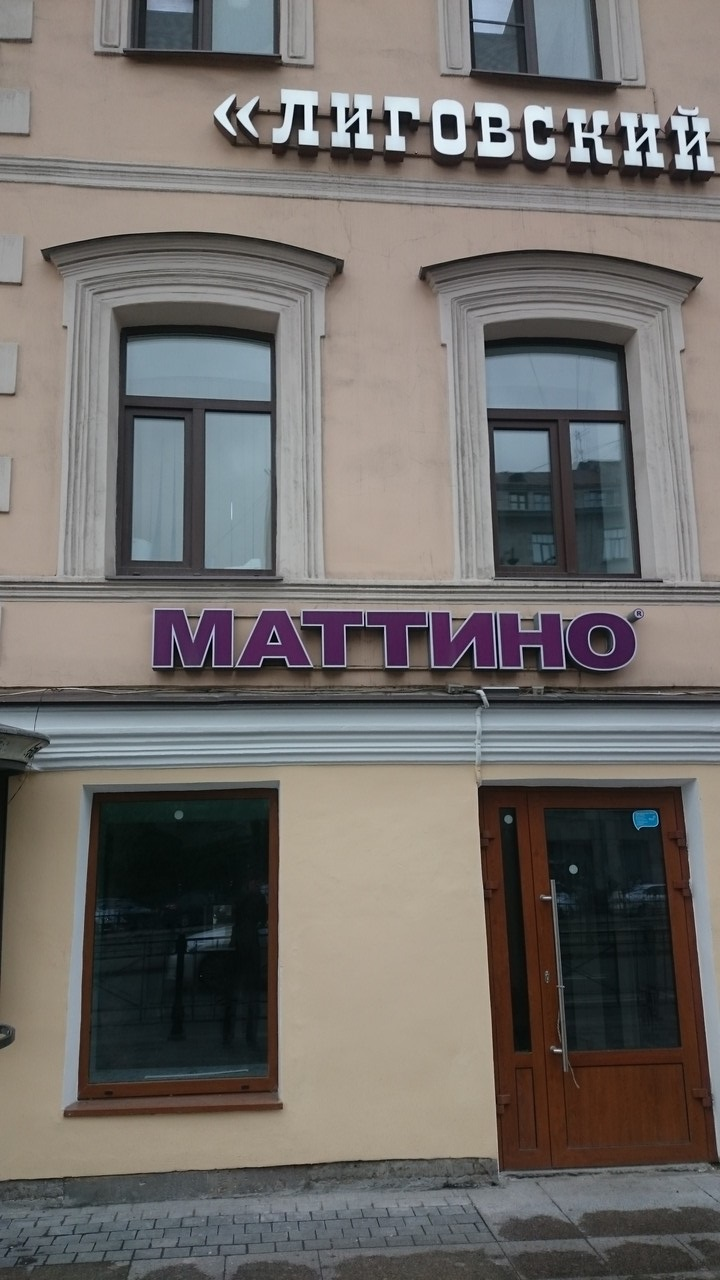door: (474, 781, 720, 1177)
signboard: (210, 88, 720, 181), (153, 611, 635, 671)
window: (77, 794, 285, 1111), (118, 324, 277, 579), (489, 333, 631, 577)
